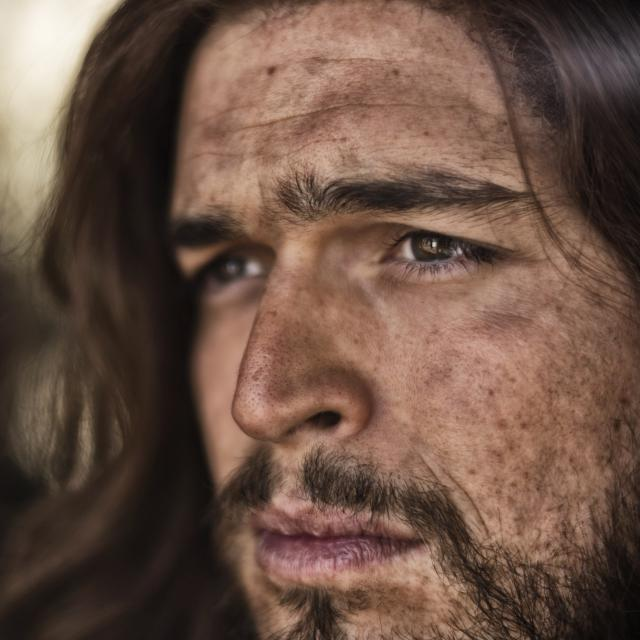Depress: (170, 0, 640, 640)
